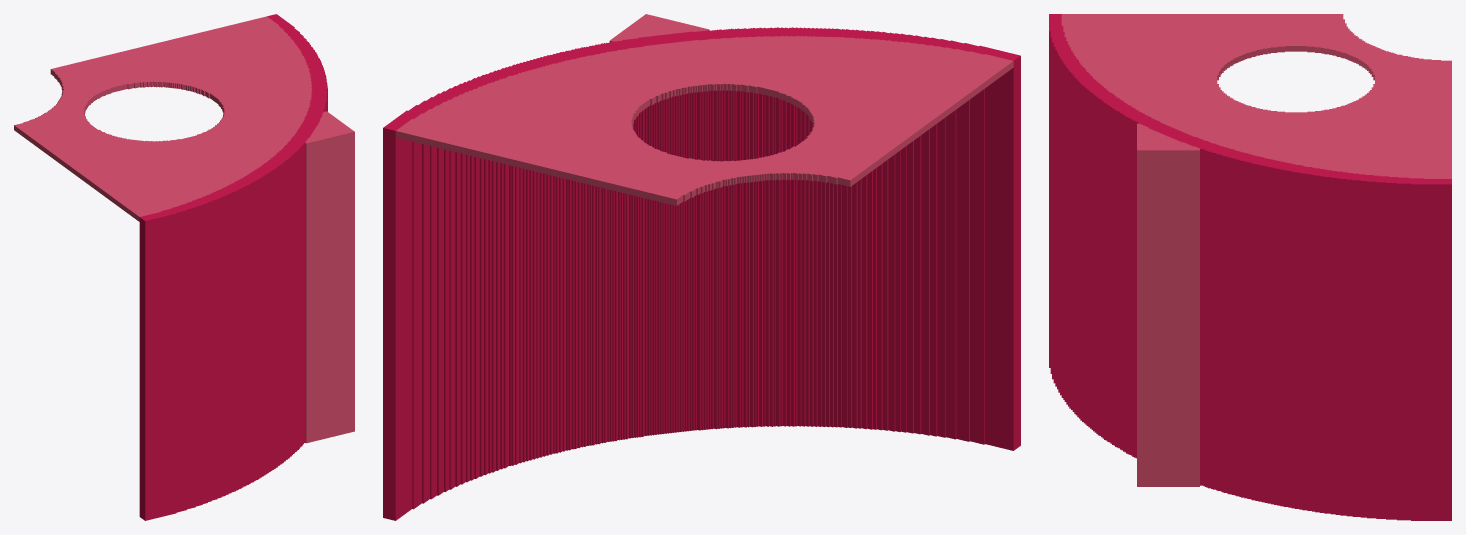
File: base_with_flag_elements-10.obj
3 views of the same model, side by side, from view 1: azimuth 30°, elevation 25°; view 2: azimuth 150°, elevation 25°; view 3: azimuth 270°, elevation 25° (orthographic). The views are drawn at different scales.
Bounding box in the file's own units: 25.6 × 23.6 × 25.6.
Materials: 1 (1 with a texture image).
